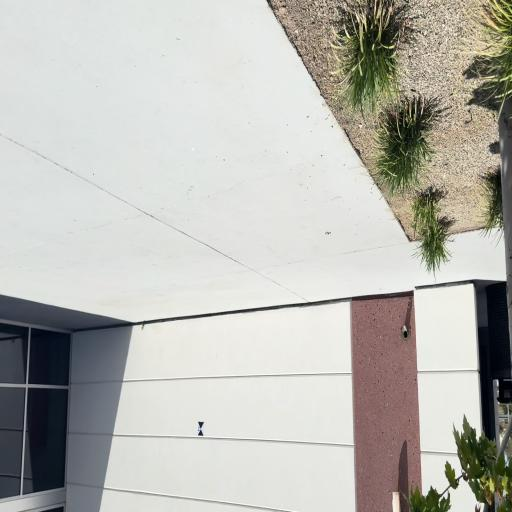target7: (197, 421, 204, 436)
